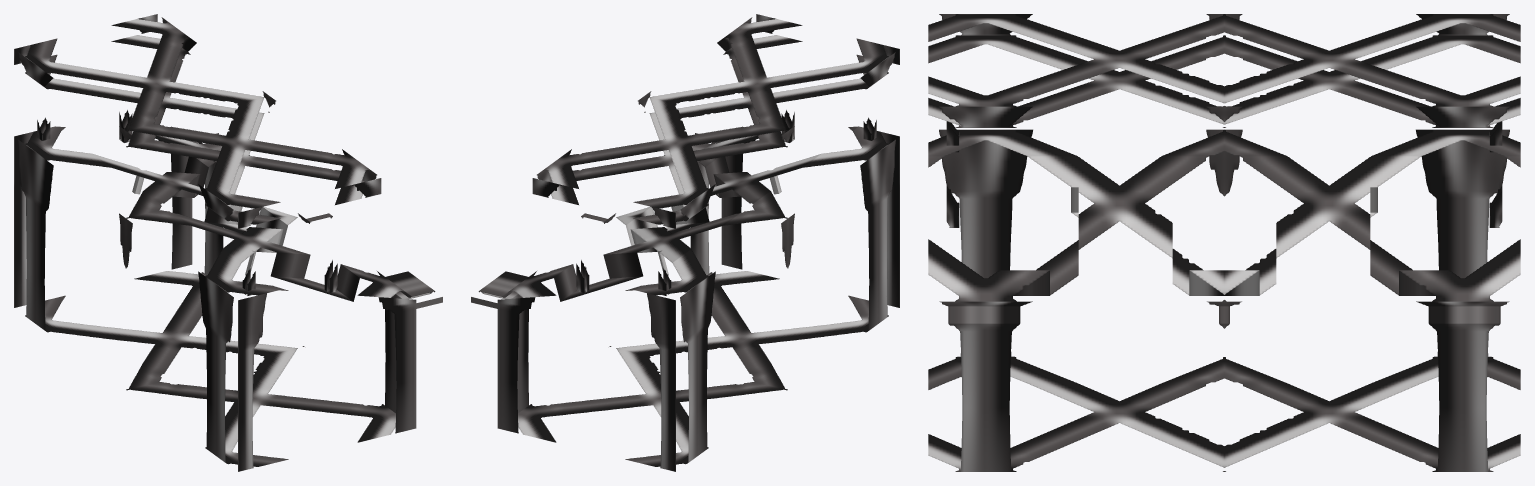
File: selft_service.fbx
3 renders of one model, left to right at view 1: azimuth 30°, elevation 25°; view 2: azimuth 150°, elevation 25°; view 3: azimuth 270°, elevation 25°, orthographic. The views are drawn at different scales.
Parts seen in each view (by area): view 1: selft service; view 2: selft service; view 3: selft service.
Boxes of the visible parts, x1,y1,x2,y2 form: selft service: (14,14,442,471); selft service: (471,14,899,471); selft service: (928,14,1520,471).
Size of the model in its own units: 100 by 121 by 189.
